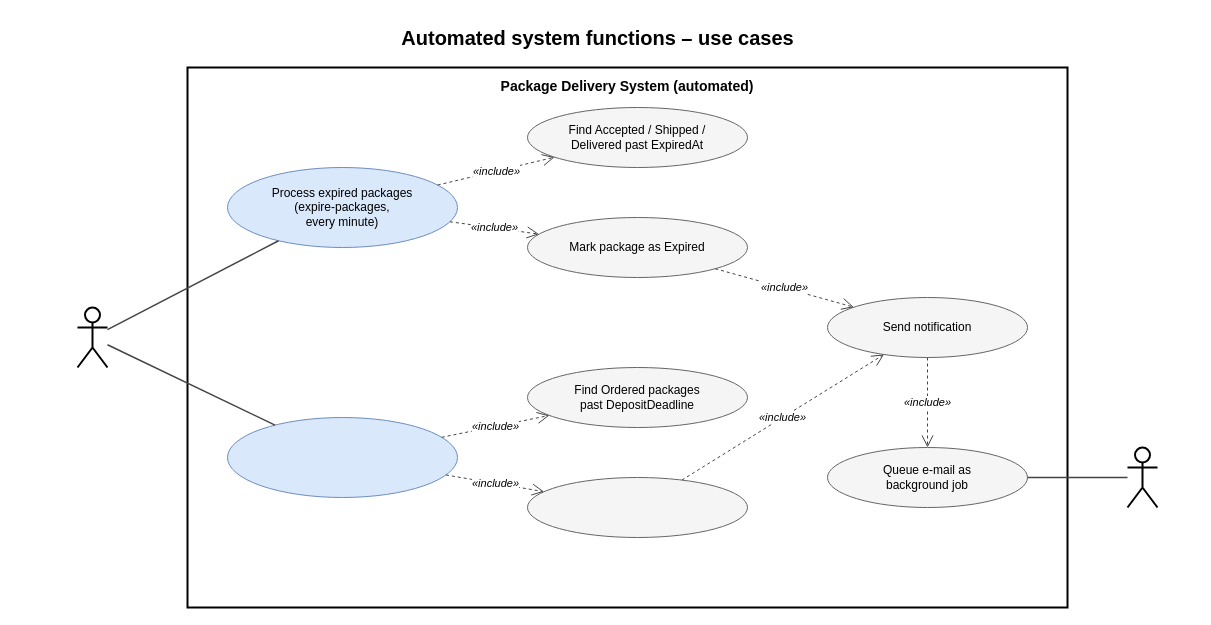
The diagram is 1211 pixels wide and 625 high, and some of its shapes have lost their labels. The box of each missing label's shape, as (x1, y1, x2, y2) in pixels:
Cancel the order: (526, 476, 748, 538)
Release missed deposits (release-missed-deposits, every minute): (226, 416, 458, 498)
Scheduler (Hangfire): (76, 306, 108, 368)
SMTP server (MailKit / Mailpit): (1126, 446, 1158, 508)
